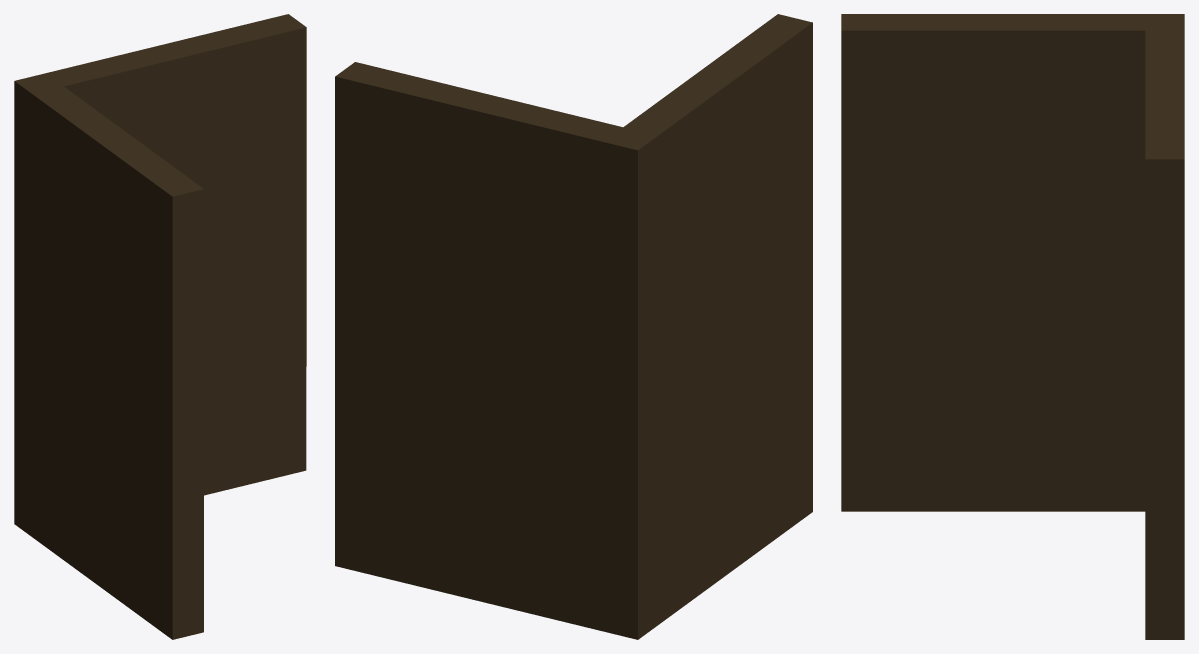
Rendered from Itr_Desk_Back2_02.FBX.
3 views of the same model, side by side, from view 1: azimuth 30°, elevation 25°; view 2: azimuth 150°, elevation 25°; view 3: azimuth 270°, elevation 25° (orthographic). The views are drawn at different scales.
Parts seen in each view (by area): view 1: Itr_Desk_Back2_02; view 2: Itr_Desk_Back2_02; view 3: Itr_Desk_Back2_02.
Boxes of the visible parts, box(x1,y1,x2,y2) form: Itr_Desk_Back2_02: box(14, 14, 306, 639); Itr_Desk_Back2_02: box(335, 14, 812, 639); Itr_Desk_Back2_02: box(841, 14, 1184, 639).
Size of the model in its own units: 17.79 by 27.48 by 17.79.
